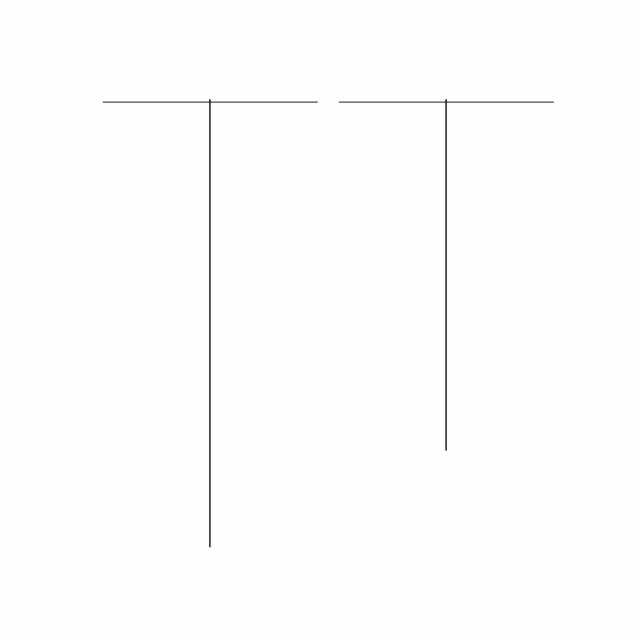Hammer: (327, 95, 565, 455)
